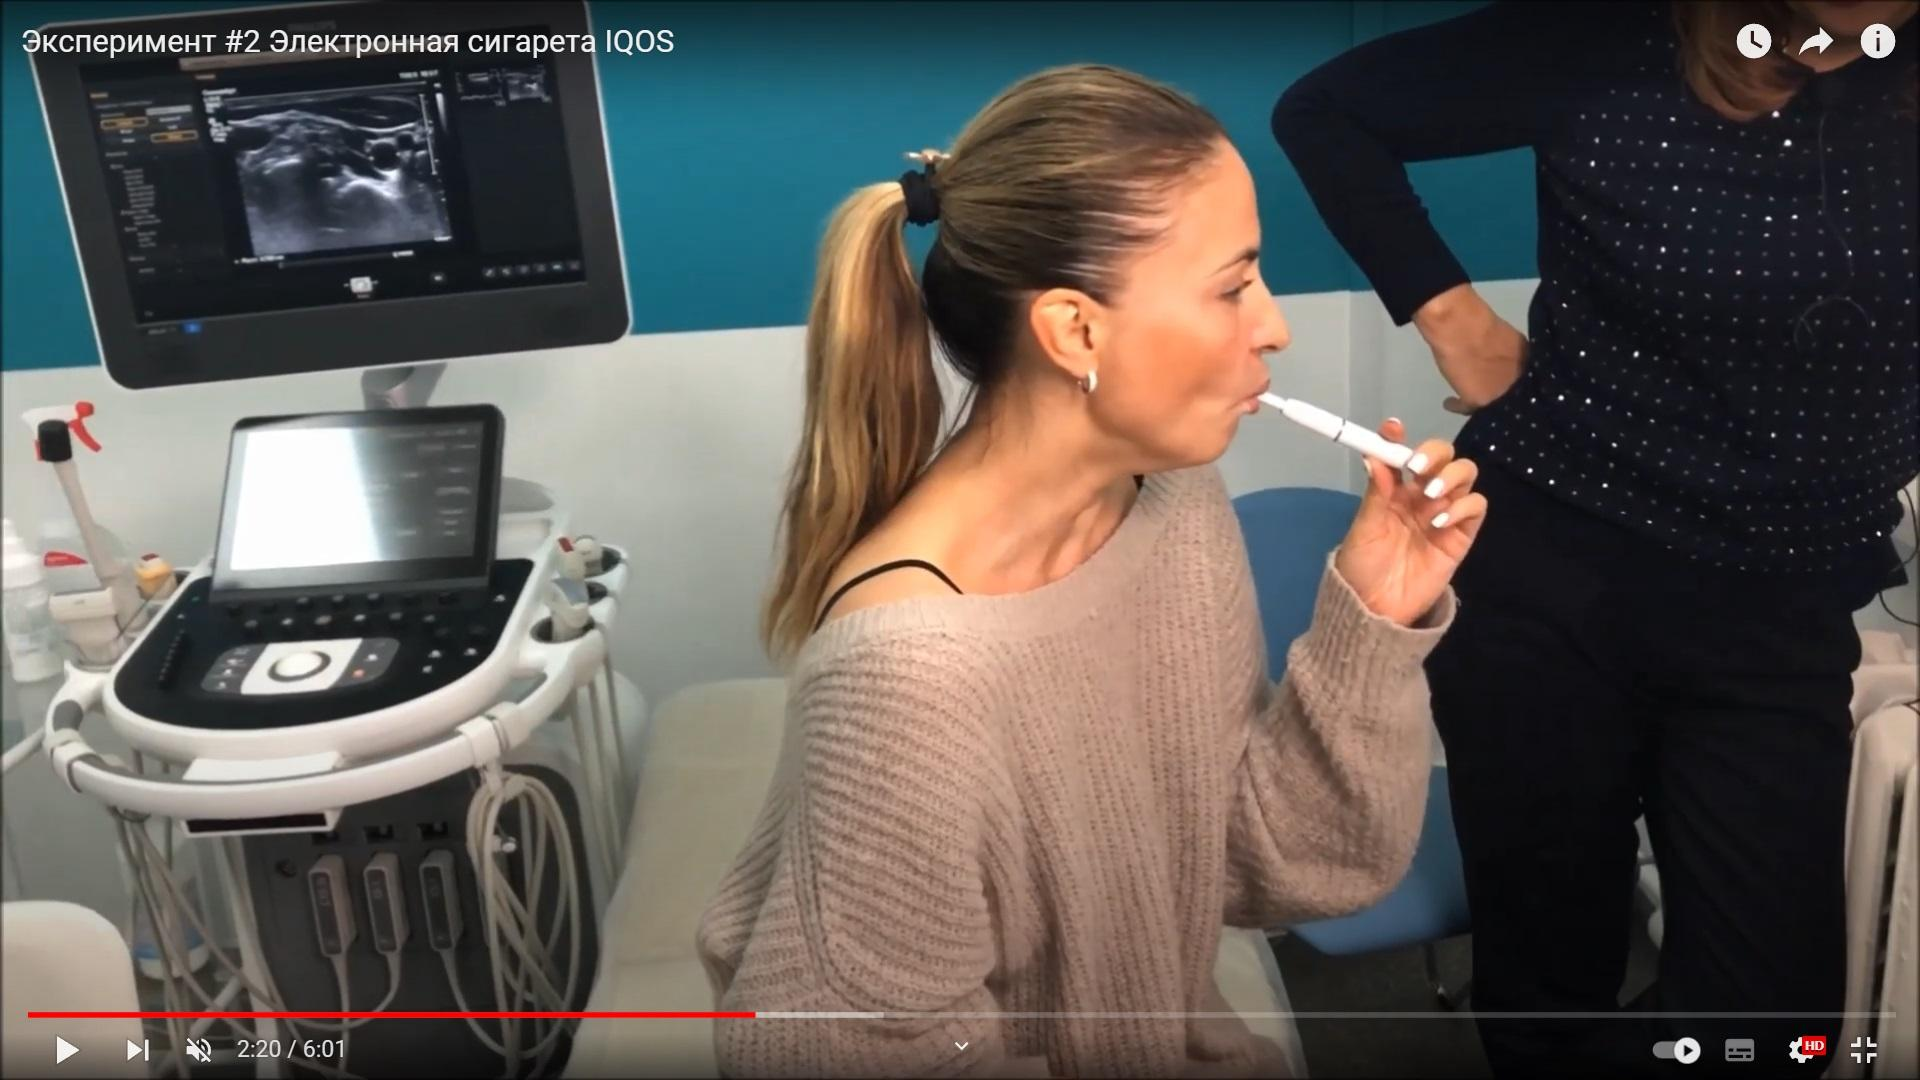iqos: (1255, 392, 1414, 468)
